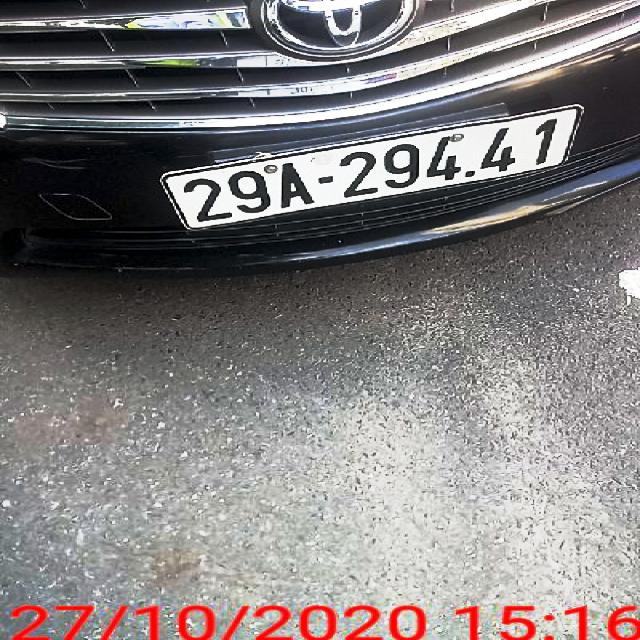license_plate: (166, 106, 585, 232)
